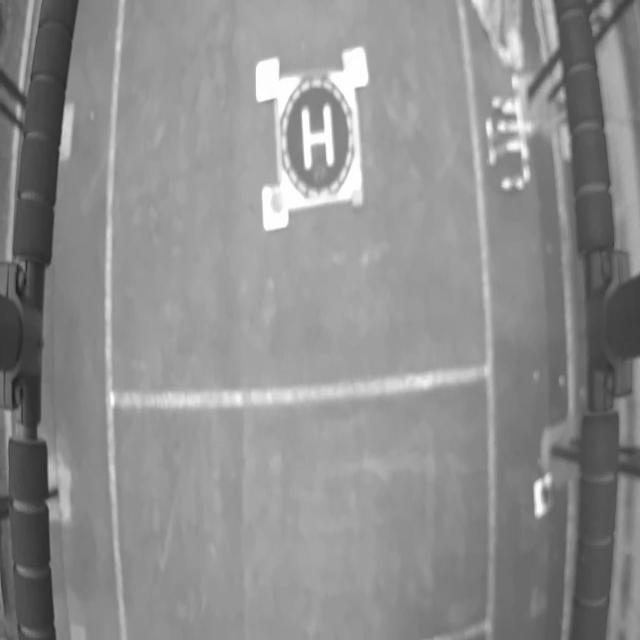Helipad: (301, 105, 335, 171)
